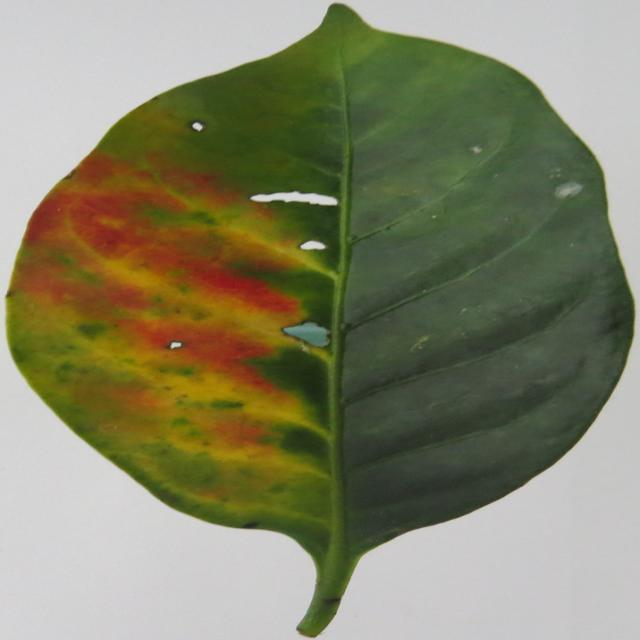DeficienciaNutricional-Fosforo: (8, 5, 633, 636)
